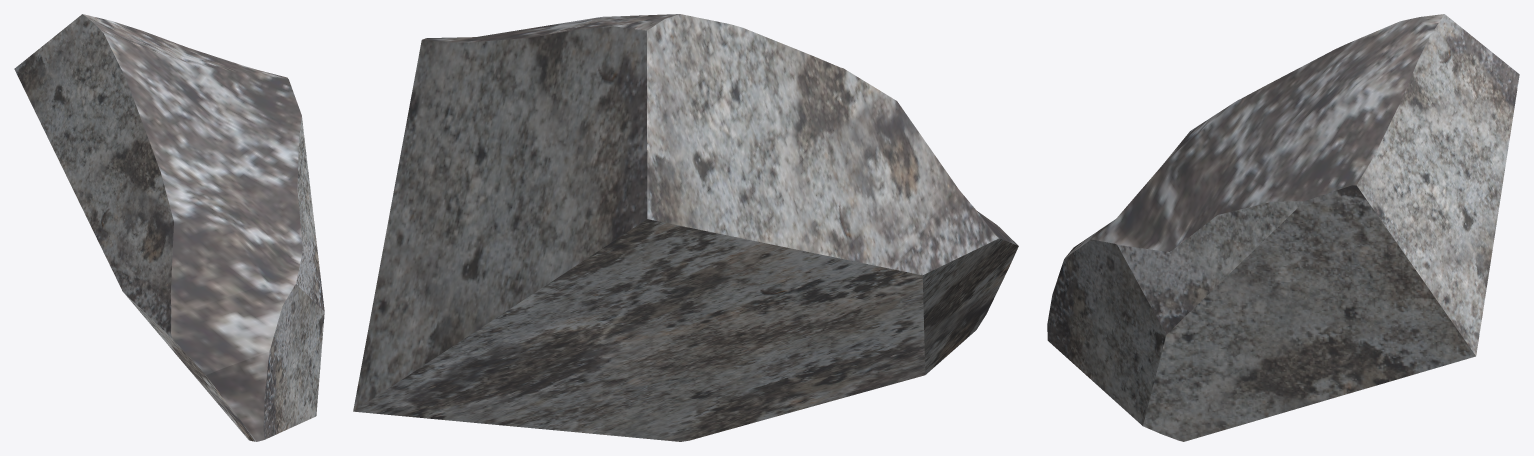
File: Asteroid_Large_001_02_009_03_036.fbx
The picture shows the model from 3 angles, left to right: view 1: azimuth 30°, elevation 25°; view 2: azimuth 150°, elevation 25°; view 3: azimuth 270°, elevation 25°; orthographic projection. The views are drawn at different scales.
Visible parts, largest first — view 1: Asteroid_Large_001_02_009_03_036; view 2: Asteroid_Large_001_02_009_03_036; view 3: Asteroid_Large_001_02_009_03_036.
Boxes of the visible parts, <box> form: Asteroid_Large_001_02_009_03_036: <box>14,14,324,441</box>; Asteroid_Large_001_02_009_03_036: <box>353,14,1018,441</box>; Asteroid_Large_001_02_009_03_036: <box>1047,14,1519,441</box>.
Bounding box in the file's own units: 9.19 × 13.45 × 15.38.
